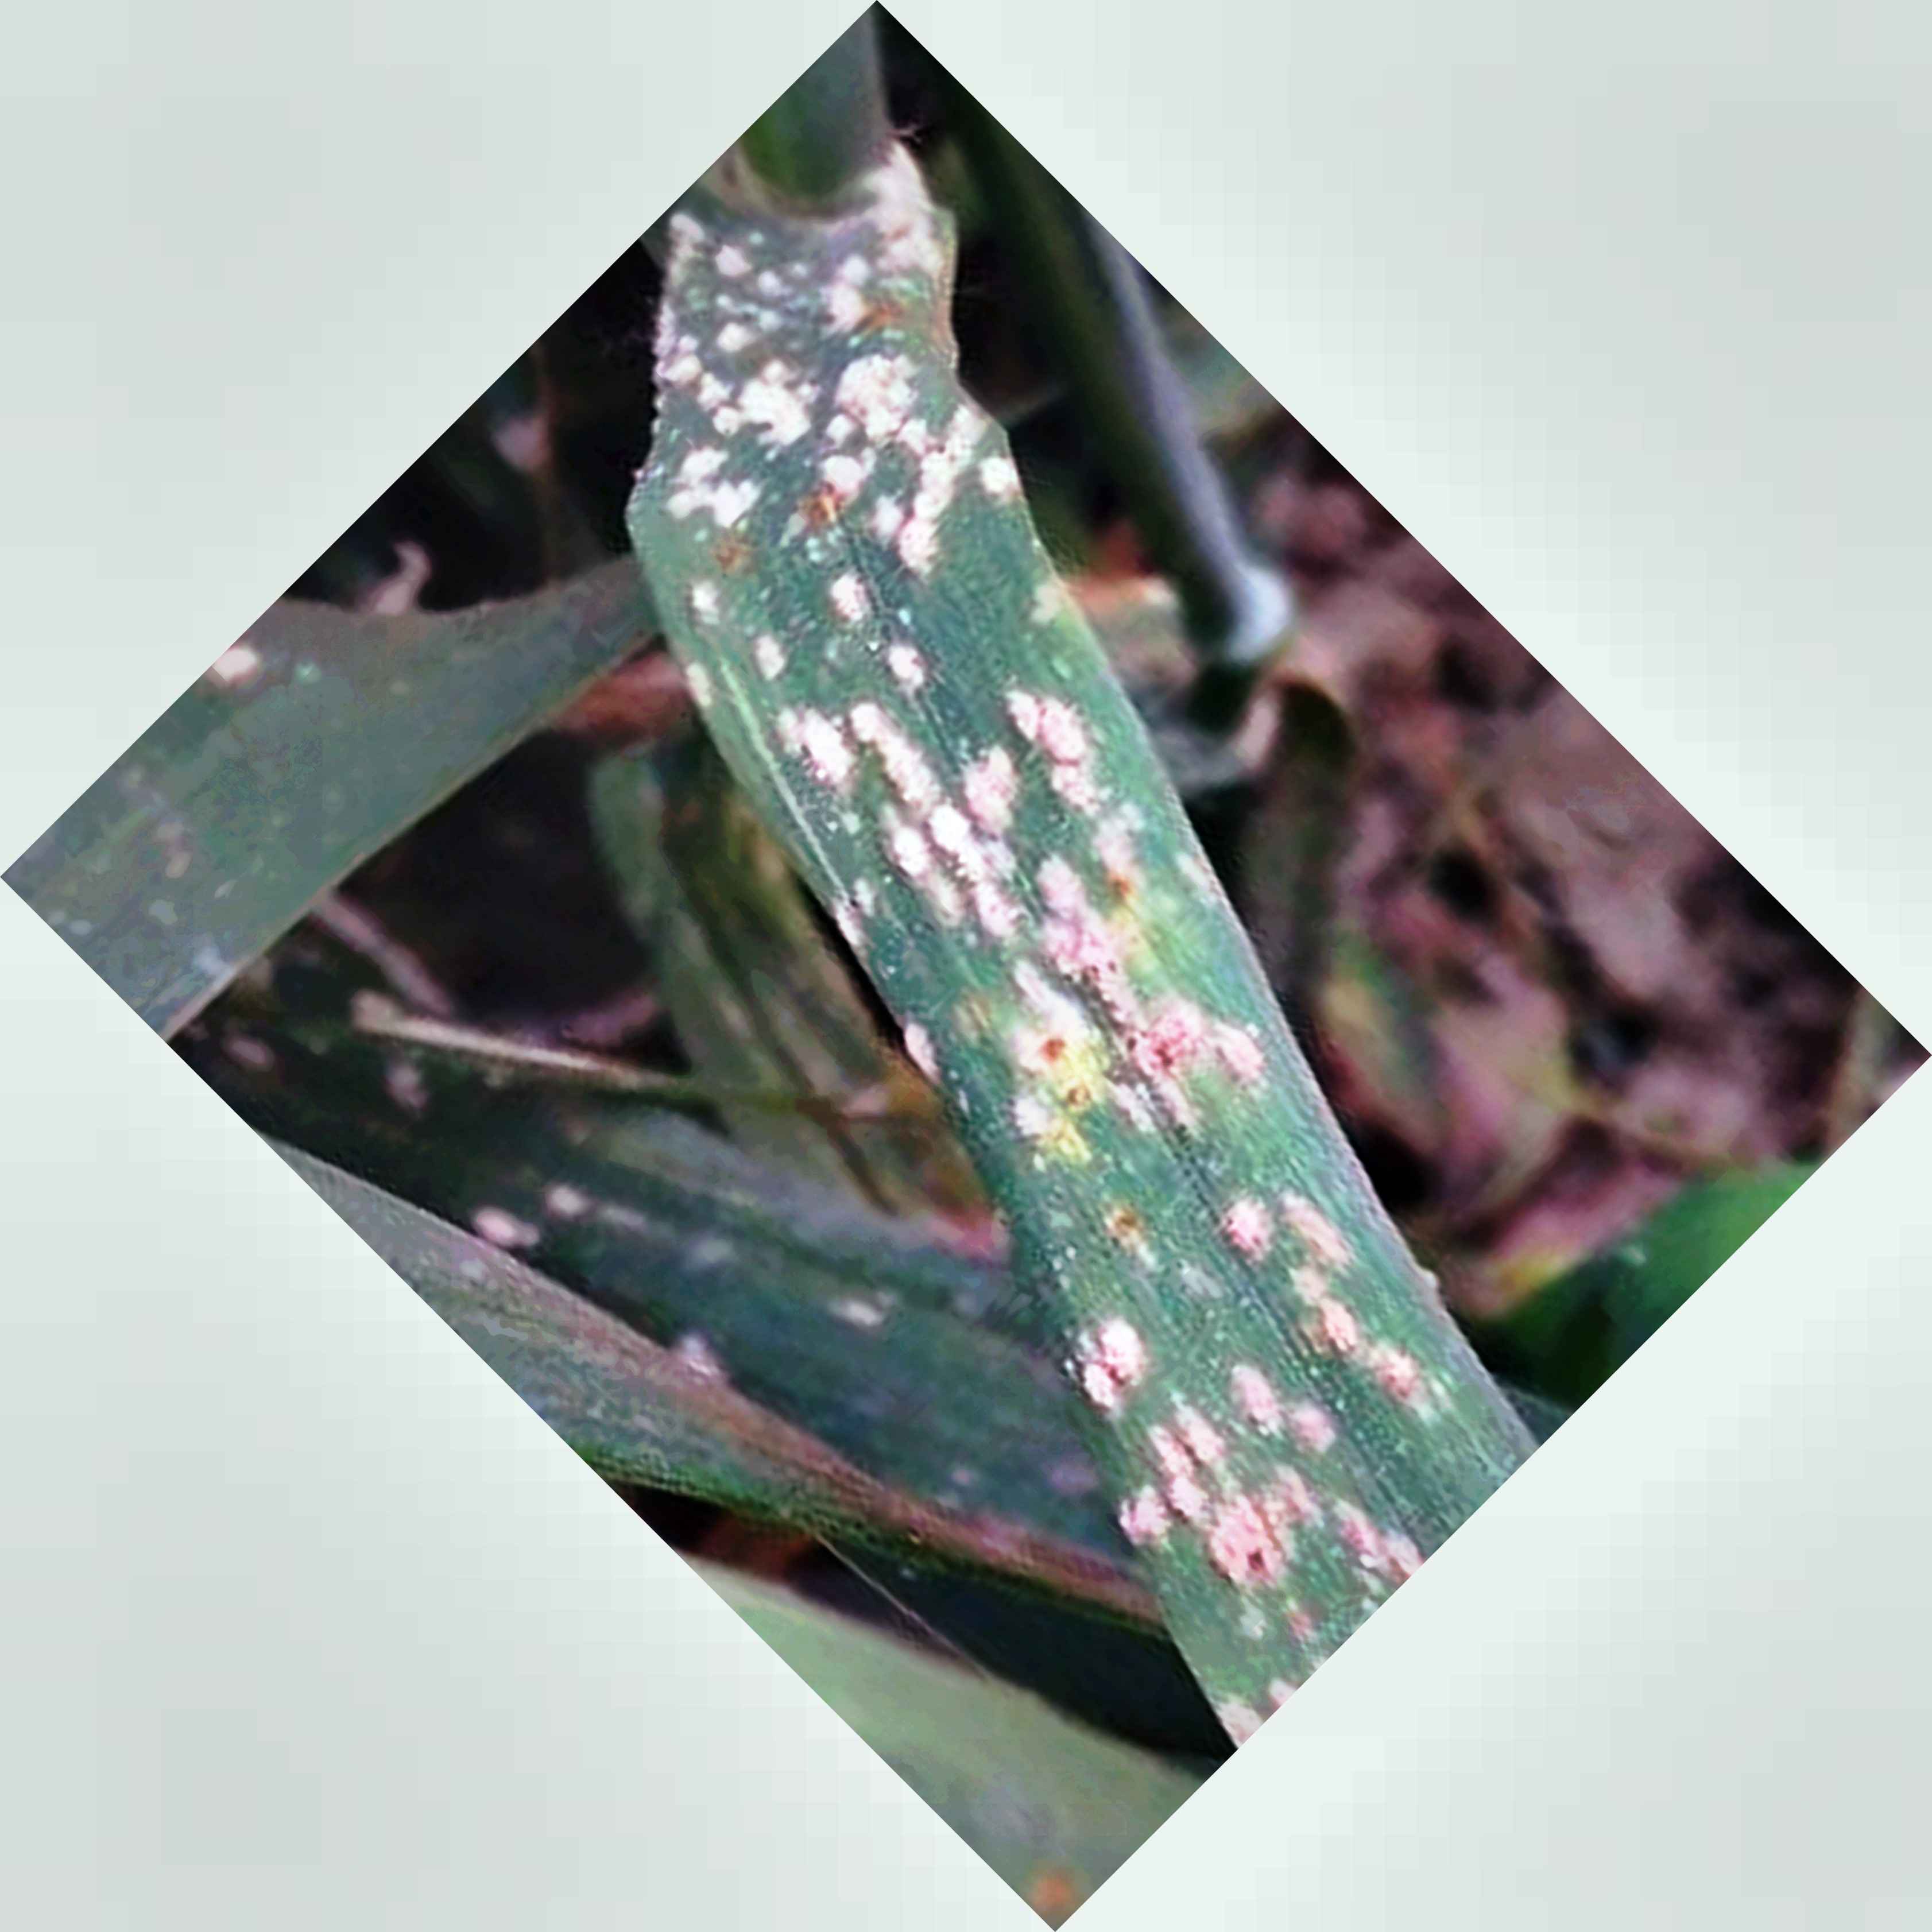Powdery Mildew: (662, 280, 1444, 1566)
